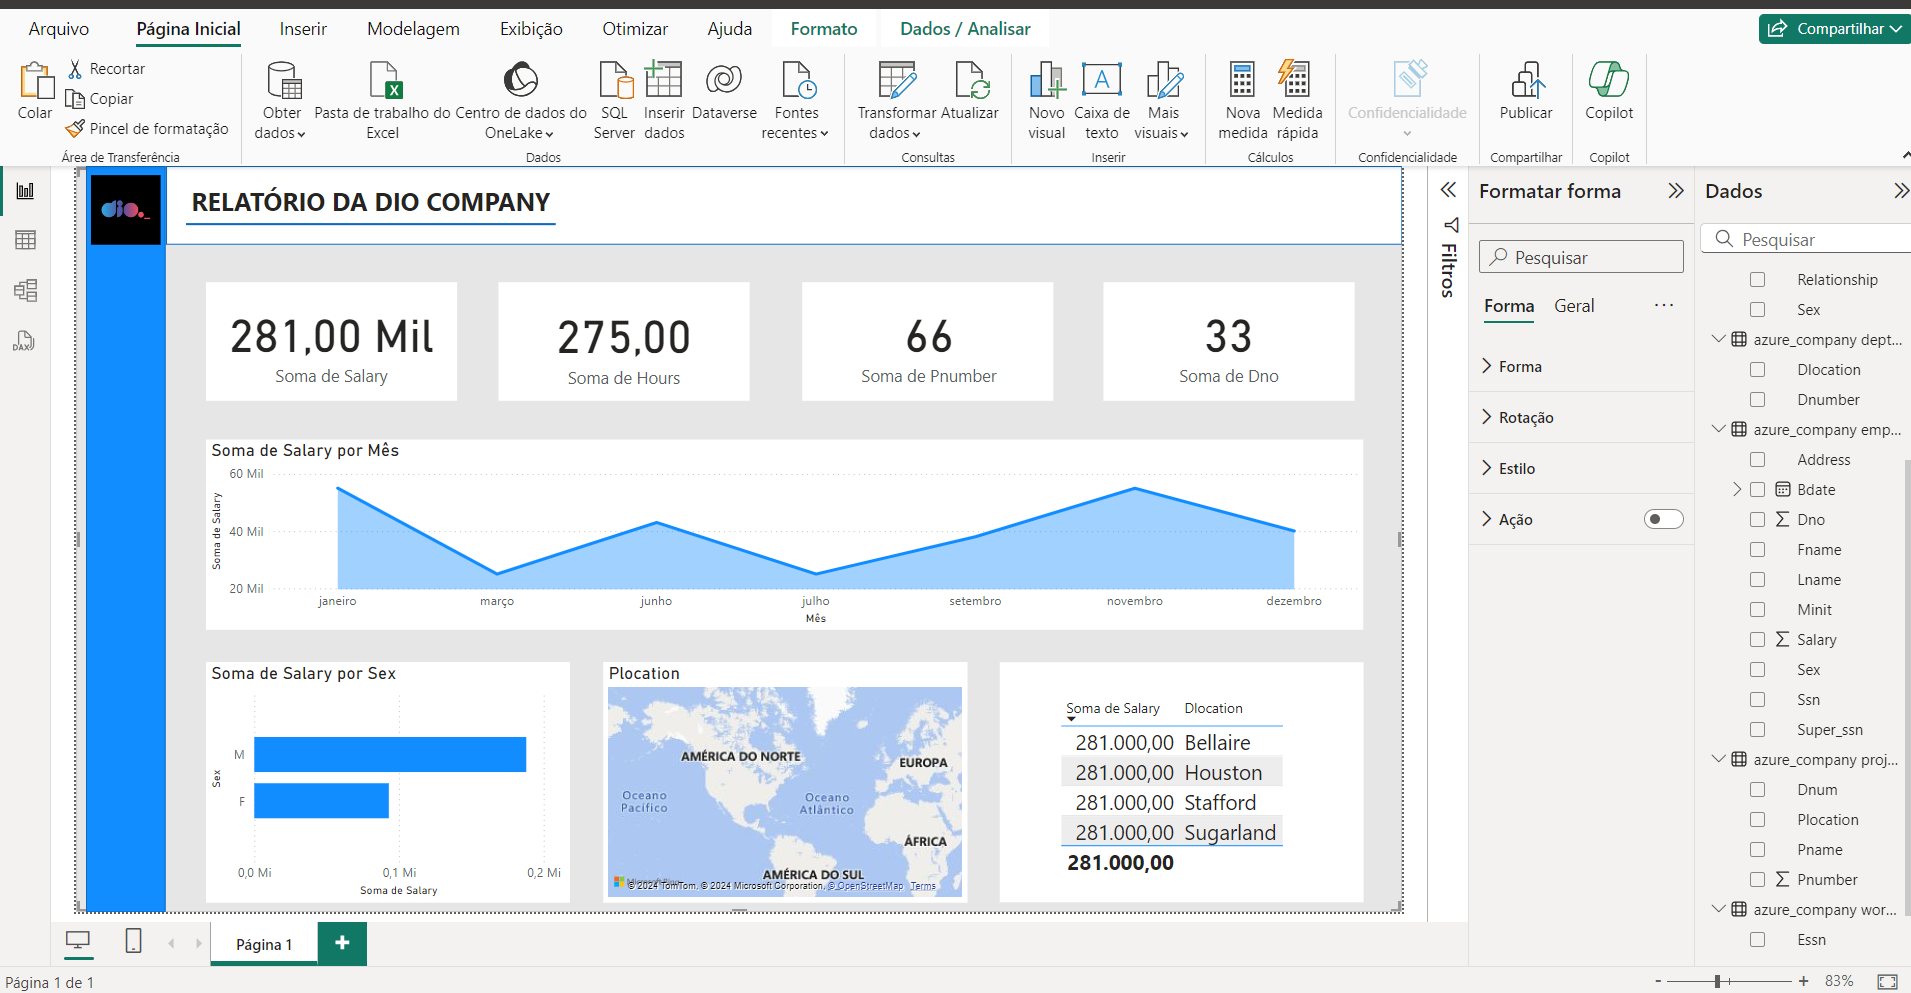

The dashboard page shown, as its layout file describes it:
{"tool":"powerbi","page":{"name":"Página 1","canvas":[1280,720],"ordinal":0},"visuals":[{"type":"shape","box":[0,0,1280,720.2],"z":0},{"type":"shape","box":[9.6,0,76.8,720.4],"z":1},{"type":"shape","box":[86.9,0,1193.2,76],"z":2},{"type":"textbox","box":[106.2,13.3,370.4,49.5],"z":3},{"type":"image","box":[9.7,0,77.2,84.5],"z":4},{"type":"shape","box":[106.2,0,357.1,112.2],"z":5},{"type":"shape","box":[125.5,112.2,242.5,114.6],"z":6},{"type":"shape","box":[407.8,112.2,242.5,114.6],"z":7},{"type":"shape","box":[700.9,112.2,242.5,114.6],"z":8},{"type":"shape","box":[991.7,112.2,242.5,114.6],"z":9},{"type":"shape","box":[125.5,264.2,1117.2,183.4],"z":10},{"type":"shape","box":[125.5,479,351.1,231.6],"z":11},{"type":"shape","box":[509.1,479,351.1,231.6],"z":12},{"type":"shape","box":[891.6,479,351.1,231.6],"z":13},{"type":"card","fields":{"Values":["Sum(azure_company employee.Salary)"]},"box":[125.5,112.2,242.5,114.6],"z":14},{"type":"card","fields":{"Values":["Sum(azure_company works_on.Hours)"]},"box":[407.8,113.4,242.5,114.6],"z":15},{"type":"card","fields":{"Values":["Sum(azure_company project.Pnumber)"]},"box":[702.1,112.2,242.5,114.6],"z":16},{"type":"card","fields":{"Values":["Sum(azure_company employee.Dno)"]},"box":[991.7,112.2,242.5,114.6],"z":17},{"type":"stackedAreaChart","fields":{"Y":["Sum(azure_company employee.Salary)"],"Category":["azure_company employee.Bdate.Variation.Hierarquia de datas.Mês"]},"box":[125.5,264.2,1117.2,183.4],"z":18},{"type":"barChart","fields":{"Category":["azure_company employee.Sex"],"Y":["Sum(azure_company employee.Salary)"]},"box":[125.5,479,351.1,231.6],"z":19},{"type":"filledMap","fields":{"Series":["azure_company project.Plocation"]},"box":[509.1,479,351.1,231.6],"z":20},{"type":"tableEx","fields":{"Values":["Sum(azure_company employee.Salary)","azure_company dept_locations.Dlocation"]},"box":[944.6,506.7,298,202.7],"z":21}]}

Visuals, with their boxes on the page's 1280x720 design canvas (x1, y1, x2, y2). These are canvas units, not pixel positions in the 1911x993 screenshot, which may show the page scaled, cropped or inside an application window:
shape: l=0, t=0, r=1280, b=720
shape: l=10, t=0, r=86, b=720
shape: l=87, t=0, r=1280, b=76
textbox: l=106, t=13, r=477, b=63
image: l=10, t=0, r=87, b=84
shape: l=106, t=0, r=463, b=112
shape: l=126, t=112, r=368, b=227
shape: l=408, t=112, r=650, b=227
shape: l=701, t=112, r=943, b=227
shape: l=992, t=112, r=1234, b=227
shape: l=126, t=264, r=1243, b=448
shape: l=126, t=479, r=477, b=711
shape: l=509, t=479, r=860, b=711
shape: l=892, t=479, r=1243, b=711
card - Sum(azure_company employee.Salary): l=126, t=112, r=368, b=227
card - Sum(azure_company works_on.Hours): l=408, t=113, r=650, b=228
card - Sum(azure_company project.Pnumber): l=702, t=112, r=945, b=227
card - Sum(azure_company employee.Dno): l=992, t=112, r=1234, b=227
stackedAreaChart - Sum(azure_company employee.Salary) x azure_company employee.Bdate.Variation.Hierarquia de datas.Mês: l=126, t=264, r=1243, b=448
barChart - azure_company employee.Sex x Sum(azure_company employee.Salary): l=126, t=479, r=477, b=711
filledMap - azure_company project.Plocation: l=509, t=479, r=860, b=711
tableEx - Sum(azure_company employee.Salary) x azure_company dept_locations.Dlocation: l=945, t=507, r=1243, b=709
